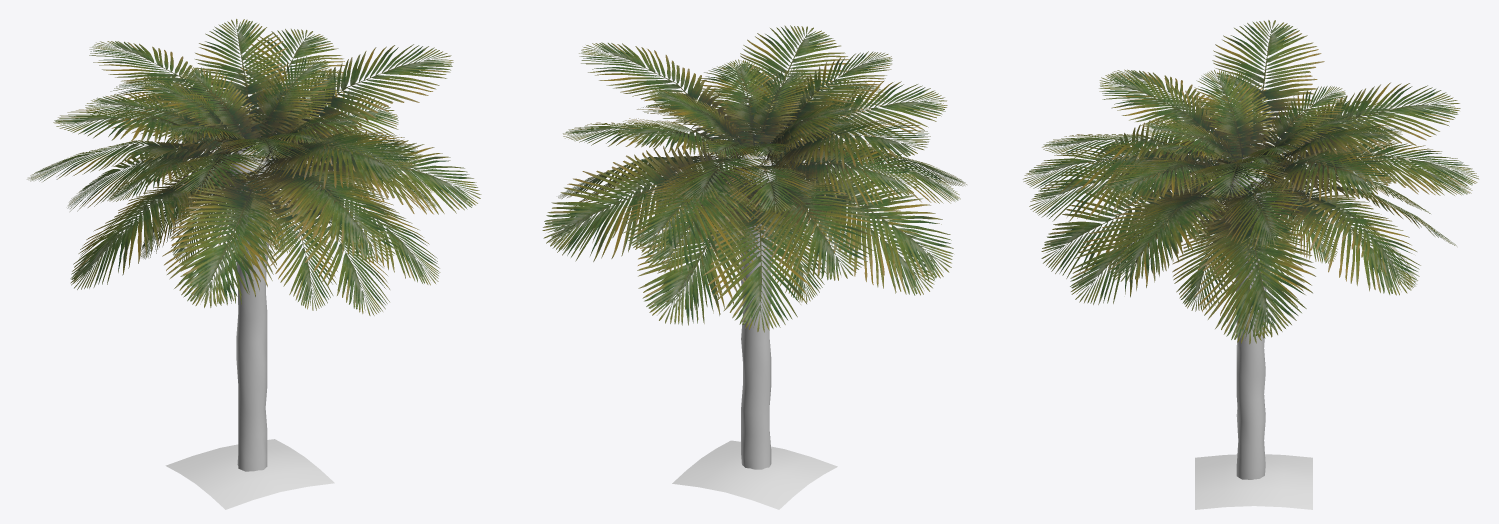
File: Palm.fbx
3 views of the same model, side by side, from view 1: azimuth 30°, elevation 25°; view 2: azimuth 150°, elevation 25°; view 3: azimuth 270°, elevation 25° (orthographic). The views are drawn at different scales.
Visible parts, largest first — view 1: Plane; view 2: Plane; view 3: Plane.
Boxes of the visible parts, x1,y1,x2,y2 form: Plane: (27,19,481,509); Plane: (542,25,966,509); Plane: (1023,20,1478,509).
Bounding box in the file's own units: 7.73 × 7.38 × 8.2.
